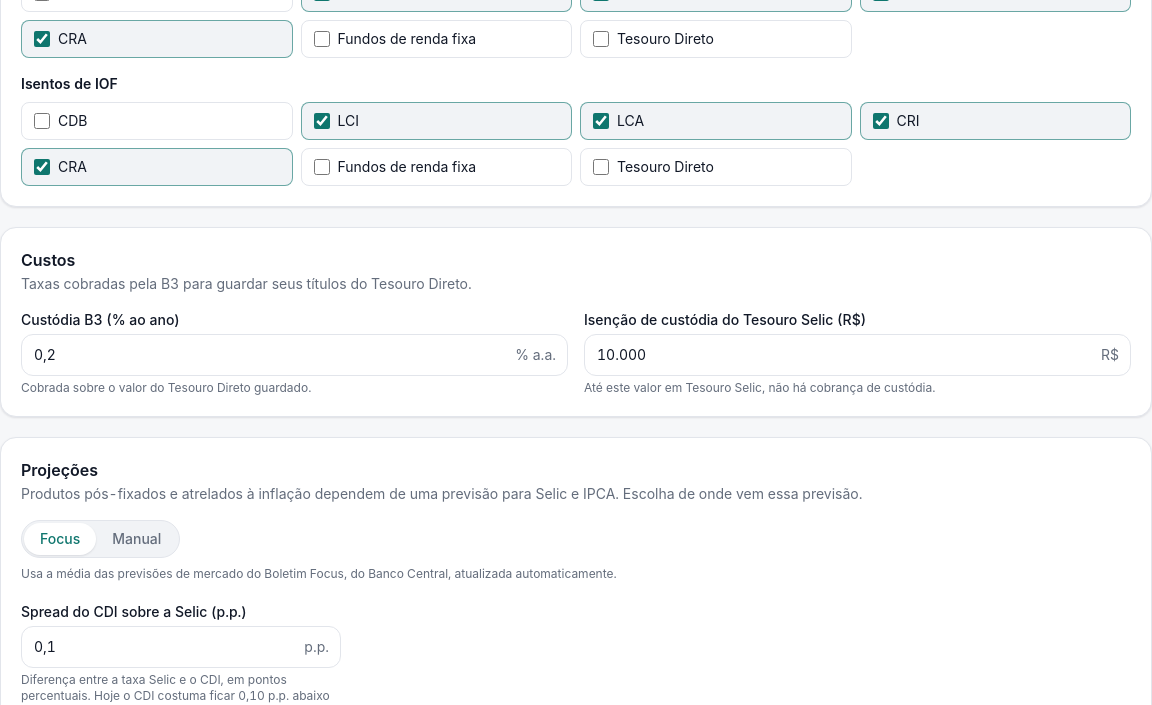
Scenario: editar a custódia para 0,25 envia fração 0.0025 e preserva os demais campos byte a byte
This screenshot has width=1152, height=705.
(page scrolled)
Clear the field labelled "Custódia B3 (% ao ano)" at coordinates (294, 355), box top-left (21, 334), bottom-right (568, 376)
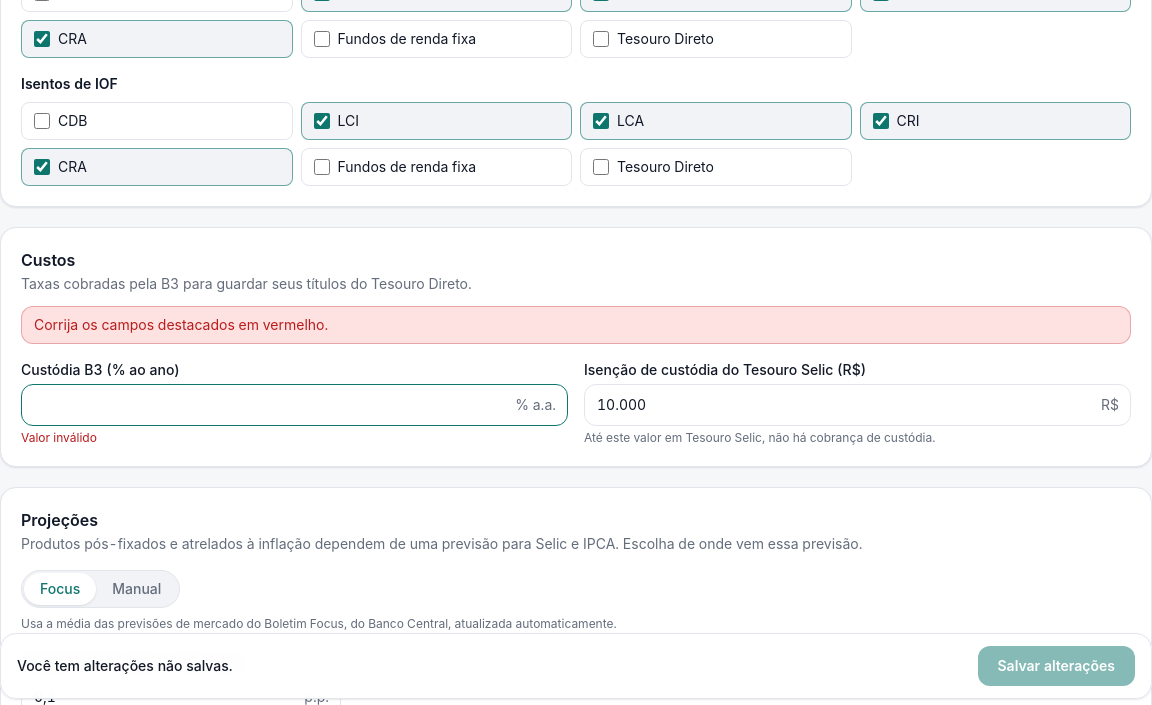
Type "0,25" into the field labelled "Custódia B3 (% ao ano)" at coordinates (294, 405), box top-left (21, 384), bottom-right (568, 426)
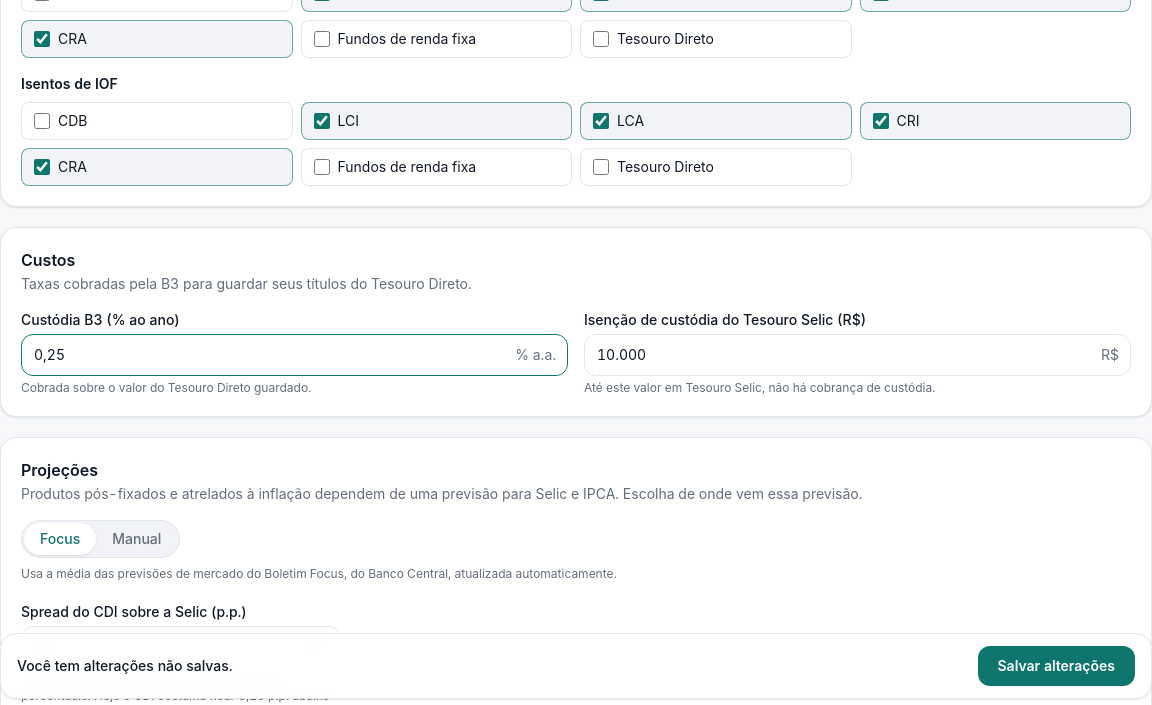
expect the button "Salvar alterações" is enabled: met
Click the button "Salvar alterações" at coordinates (1056, 666), box top-left (978, 646), bottom-right (1135, 686)
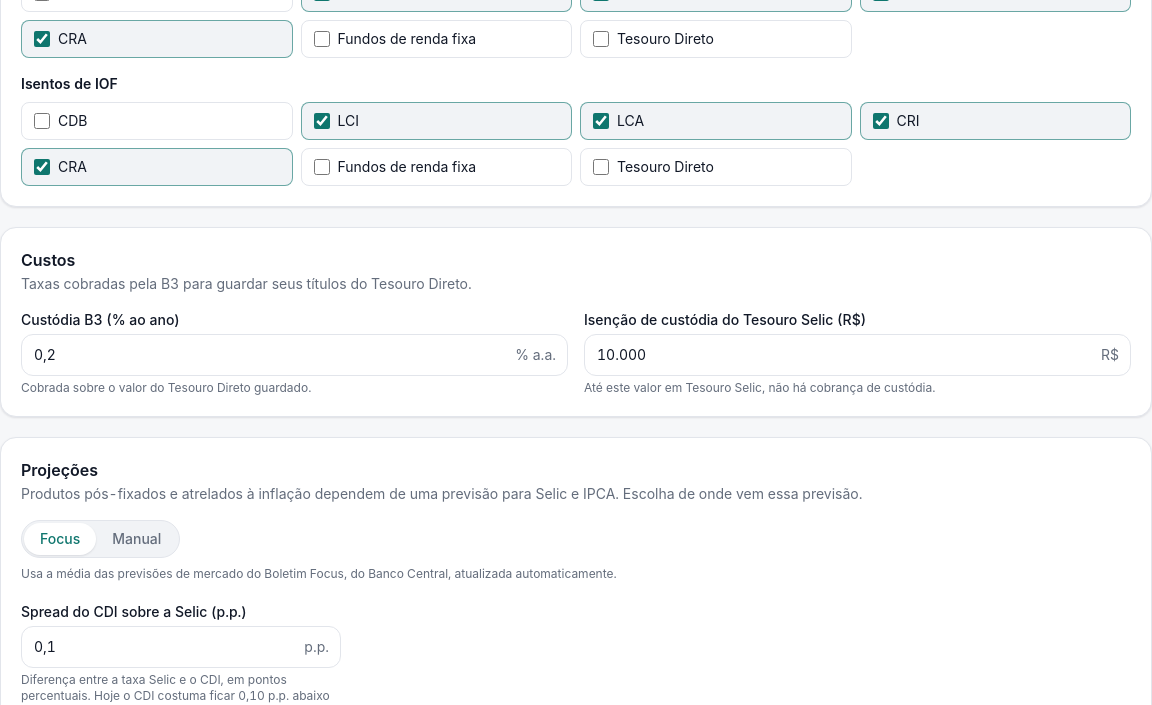
expect the button "Salvar alterações" is gone: met
